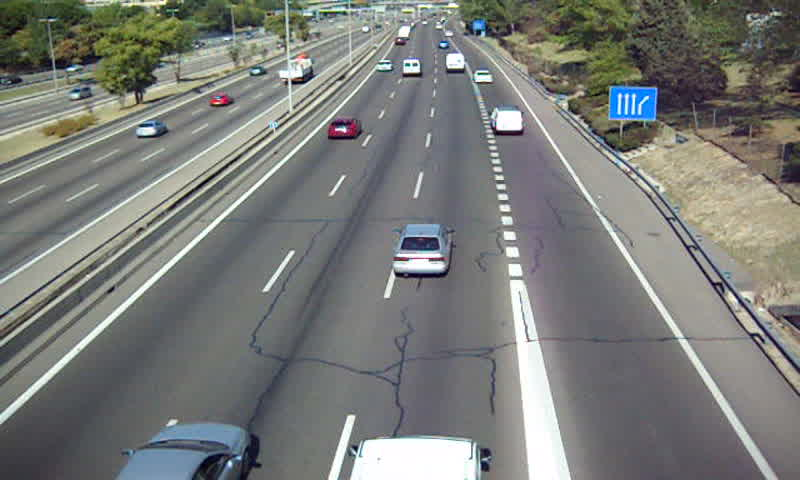car: (392, 225, 451, 278), (327, 118, 361, 139), (473, 68, 494, 83), (374, 59, 392, 71)
van: (491, 107, 523, 135), (445, 52, 466, 73), (402, 57, 421, 75)
